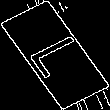L_NE: (19, 29, 91, 81)
